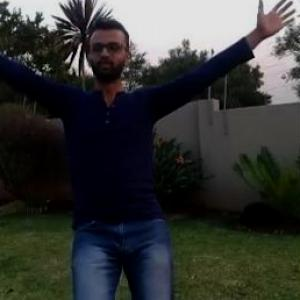takeoff: (1, 6, 292, 299)
